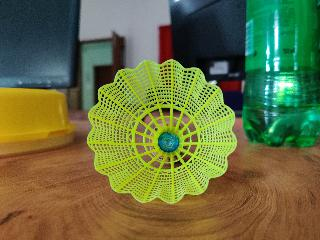shuttlecock: (85, 59, 238, 202)
